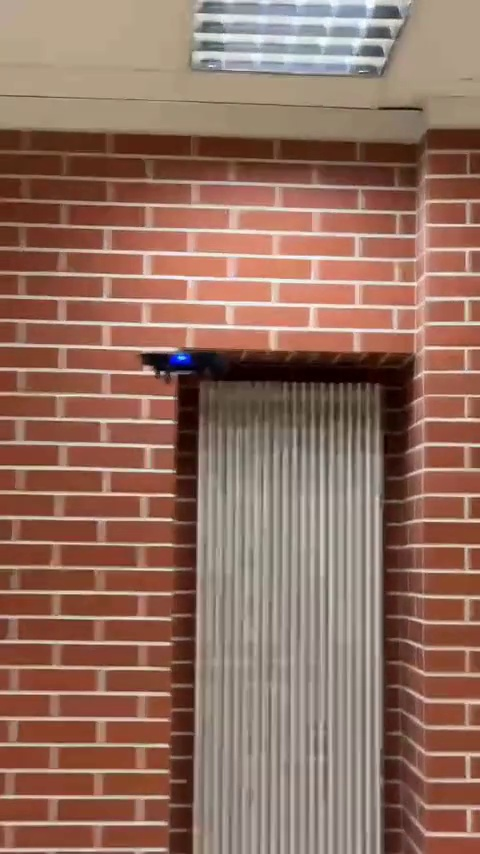drone: (137, 349, 225, 376)
